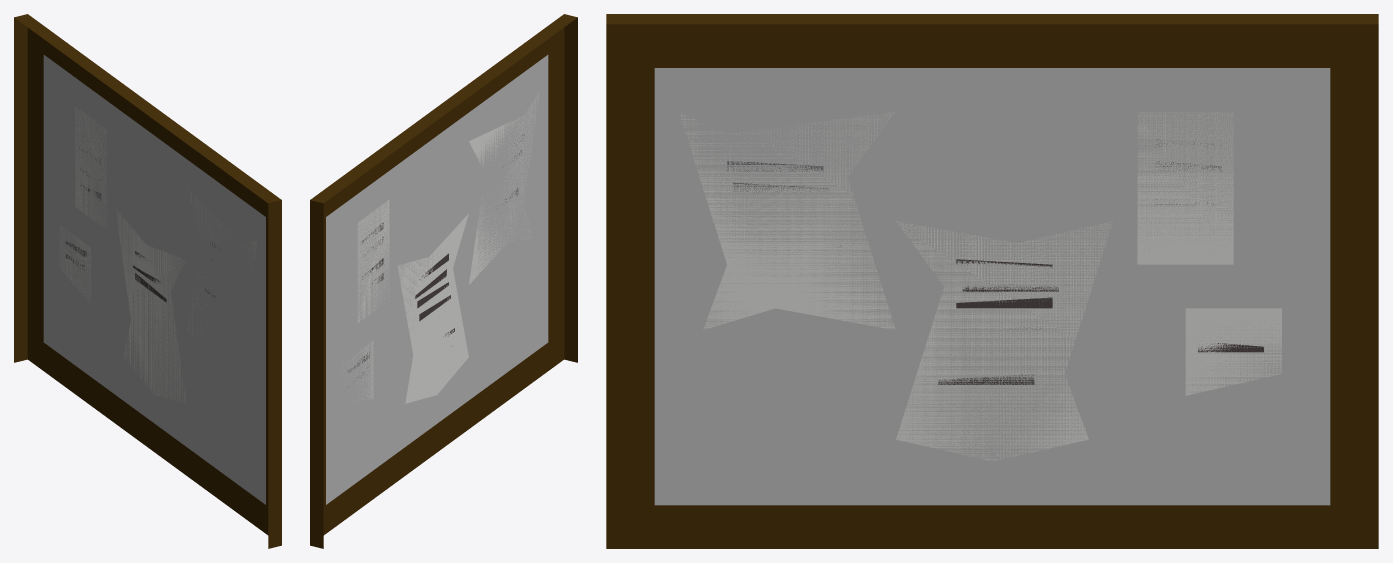
Rendered from model_loc_961_q.obj.
3 views of the same model, side by side, from view 1: azimuth 30°, elevation 25°; view 2: azimuth 150°, elevation 25°; view 3: azimuth 270°, elevation 25° (orthographic). The views are drawn at different scales.
Parts seen in each view (by area): view 1: 2040; view 2: 2040; view 3: 2040.
Boxes of the visible parts, x1,y1,x2,y2 form: 2040: (14,14,281,548); 2040: (310,14,577,548); 2040: (606,14,1378,548).
Size of the model in its own units: 4 by 96 by 128.
